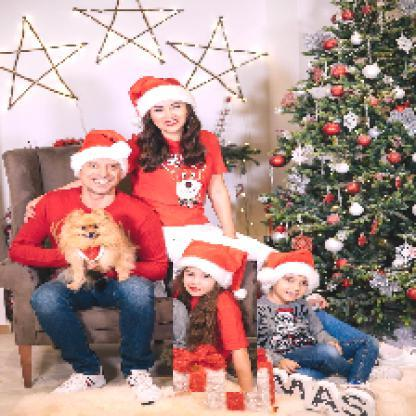child: (242, 249, 404, 383), (174, 241, 259, 395)
